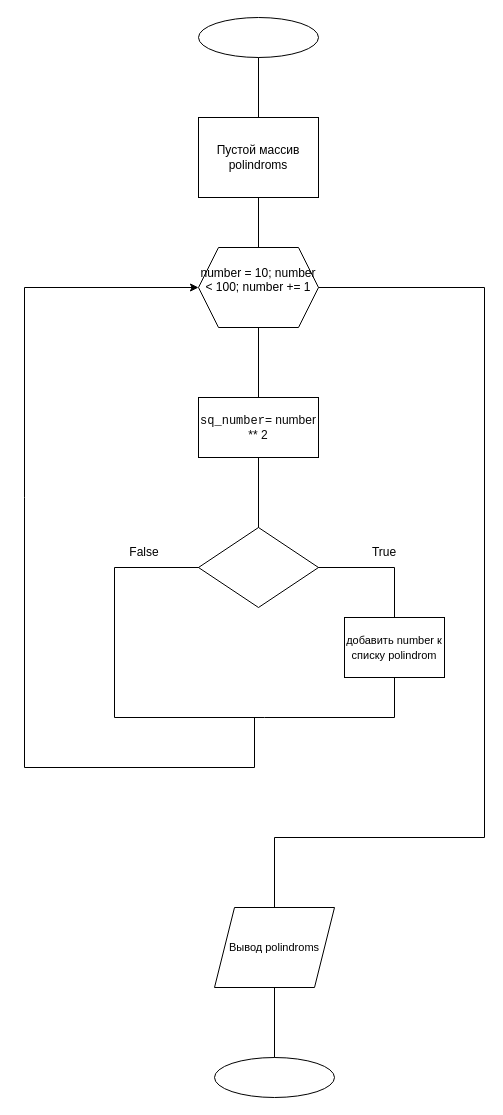
Image size: 503x1115. Some labels were removed from this diagram. Here are the shapes that lost their labels. From the top down, the centre of each, then its label:
point (258, 37): Начало
point (258, 567): str( sq_number == str( sq_number [::-1]
point (274, 1077): Конец
